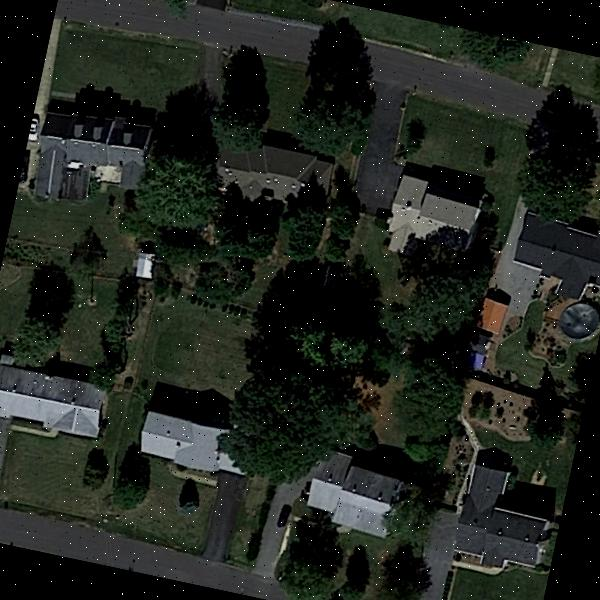Buildings: (38, 101, 152, 201), (501, 213, 600, 320), (450, 468, 548, 570), (304, 452, 402, 548), (216, 138, 334, 206), (0, 360, 104, 434), (386, 178, 486, 250), (136, 409, 221, 474)
